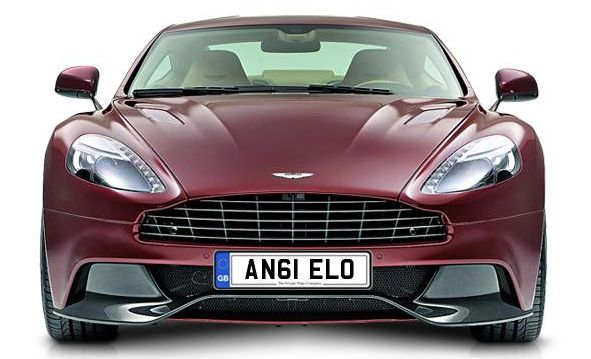plate: (214, 256, 371, 286)
